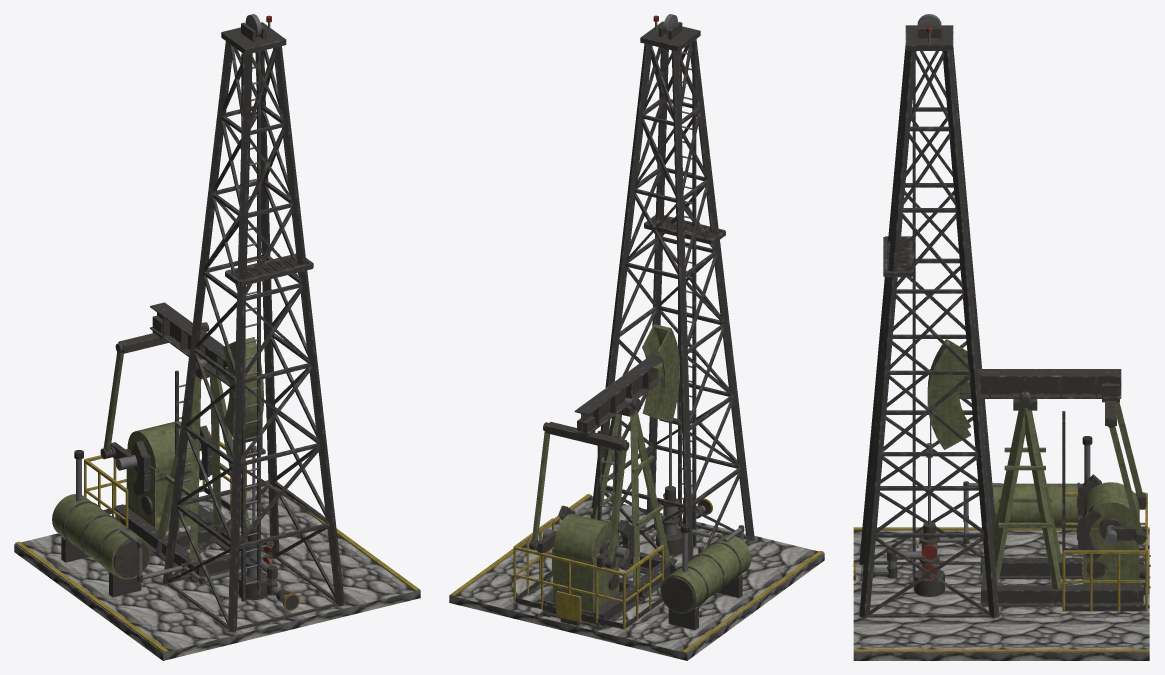
The model's file is feOilExtractor_HD.fbx.
3 views of the same model, side by side, from view 1: azimuth 30°, elevation 25°; view 2: azimuth 150°, elevation 25°; view 3: azimuth 270°, elevation 25° (orthographic). The views are drawn at different scales.
Parts seen in each view (by area): view 1: feOilExtractor_Base, FeRock_1, FeSpin_x0.25_Crank, FeRockRod_1; view 2: feOilExtractor_Base, FeRock_1, FeRockRod_1, FeSpin_x0.25_Crank; view 3: feOilExtractor_Base, FeRock_1, FeSpin_x0.25_Crank, FeRockRod_1.
Part boxes in pixels (box(x1,y1,x2,y2)): feOilExtractor_Base: box(14, 14, 420, 660); FeRock_1: box(118, 302, 263, 442); FeSpin_x0.25_Crank: box(110, 425, 212, 495); FeRockRod_1: box(100, 322, 209, 459); feOilExtractor_Base: box(449, 14, 824, 660); FeRock_1: box(545, 324, 679, 451); FeRockRod_1: box(529, 422, 629, 568); FeSpin_x0.25_Crank: box(535, 505, 634, 570); feOilExtractor_Base: box(853, 14, 1150, 660); FeRock_1: box(927, 339, 1121, 449); FeSpin_x0.25_Crank: box(1076, 474, 1146, 561); FeRockRod_1: box(1106, 402, 1145, 544).
Bounding box in the file's own units: 5 × 10.88 × 5.02.
Materials: 1 (1 with a texture image).
